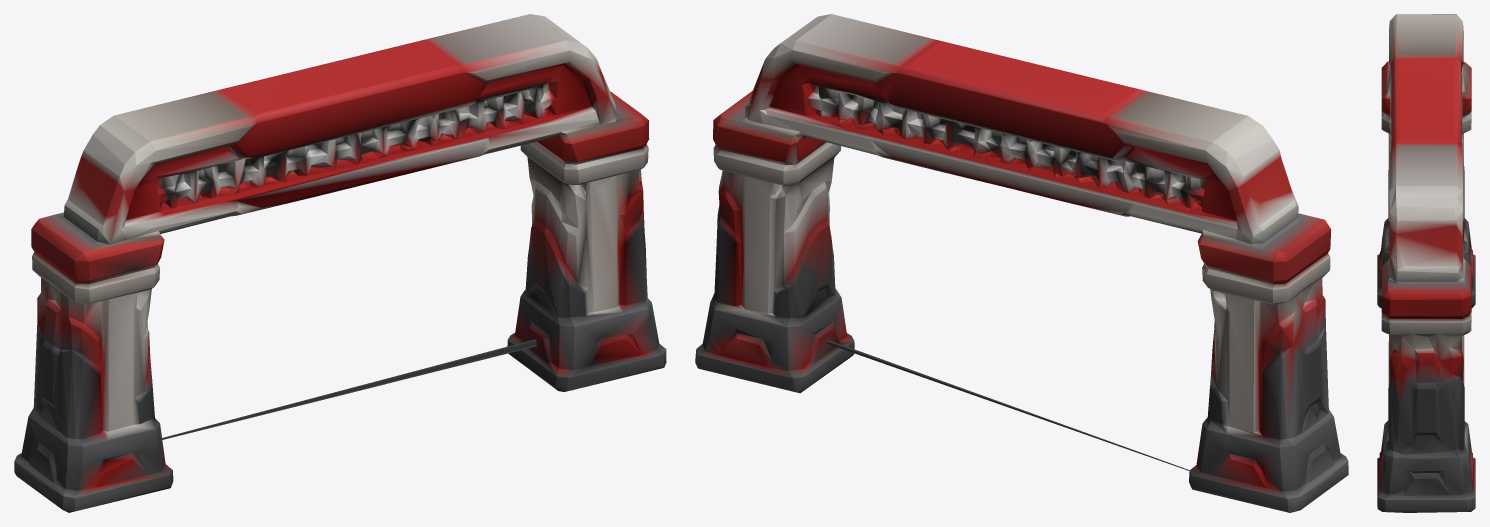
The model's file is arch.glb.
The picture shows the model from 3 angles, left to right: view 1: azimuth 30°, elevation 25°; view 2: azimuth 150°, elevation 25°; view 3: azimuth 270°, elevation 25°; orthographic projection. The views are drawn at different scales.
Visible parts, largest first — view 1: world; view 2: world; view 3: world.
Boxes of the visible parts, x1,y1,x2,y2 form: world: (14,14,666,512); world: (695,14,1348,512); world: (1377,14,1475,512).
Size of the model in its own units: 1.84 by 1 by 0.3083.
